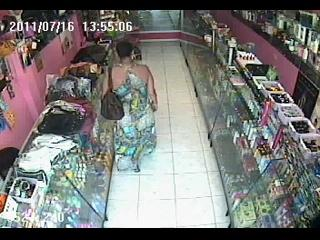Normal: (101, 40, 159, 172), (100, 66, 124, 120)
